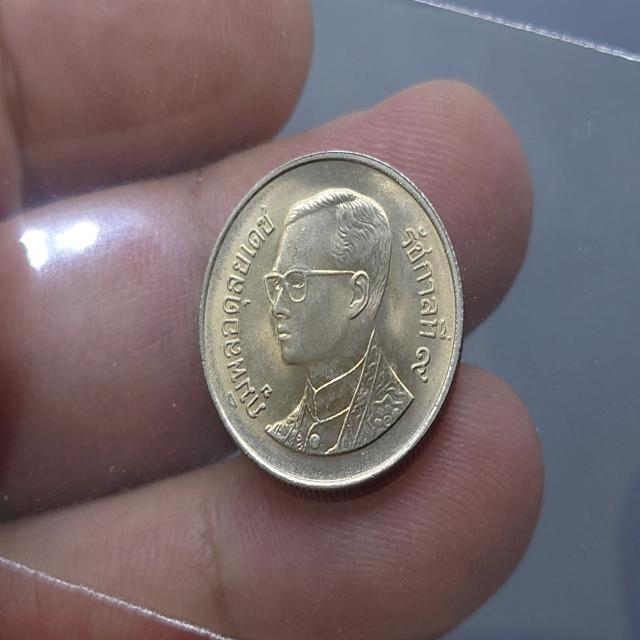1 Bath: (190, 139, 473, 510)
